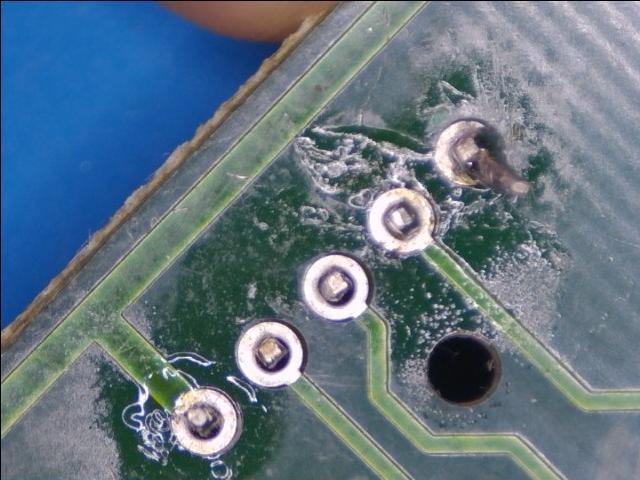Dry_joint: (369, 188, 435, 252), (435, 121, 500, 184)
